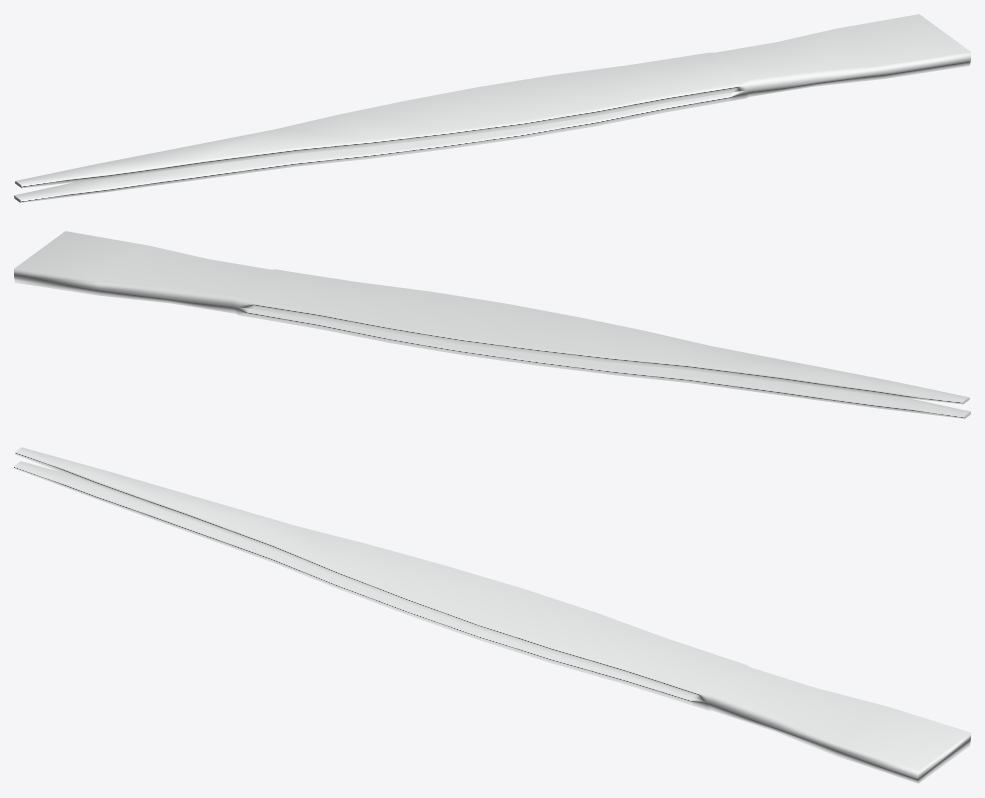
The model's file is Surgery_Equipmet3.fbx.
3 views of the same model, one above another, from view 1: azimuth 30°, elevation 25°; view 2: azimuth 150°, elevation 25°; view 3: azimuth 330°, elevation 25° (orthographic).
Visible parts, largest first — view 1: Surgery_Equipmet3; view 2: Surgery_Equipmet3; view 3: Surgery_Equipmet3.
Boxes of the visible parts, left/top/right/bottom form: Surgery_Equipmet3: left=14, top=14, right=970, bottom=202; Surgery_Equipmet3: left=14, top=231, right=970, bottom=418; Surgery_Equipmet3: left=14, top=447, right=970, bottom=783.
Size of the model in its own units: 10.36 by 0.9617 by 1.04.
